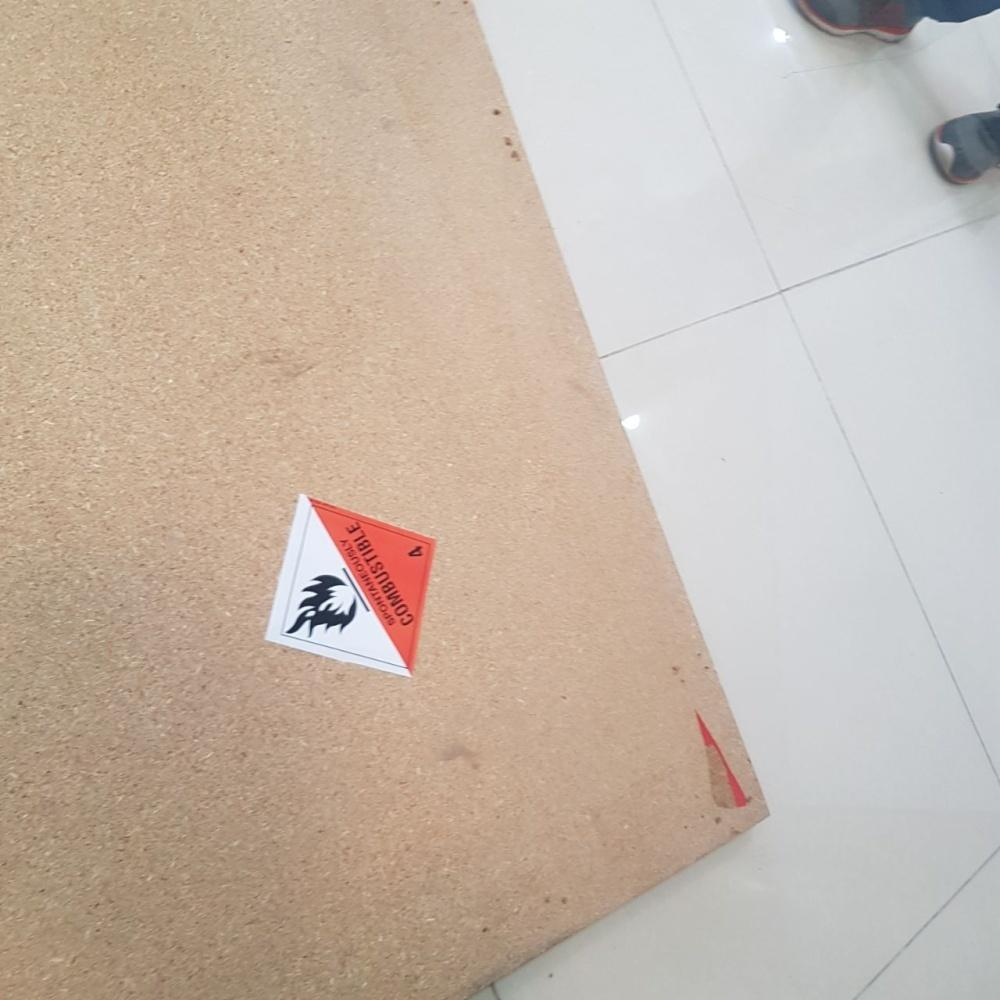spontaneously-combustible: (263, 490, 438, 685)
